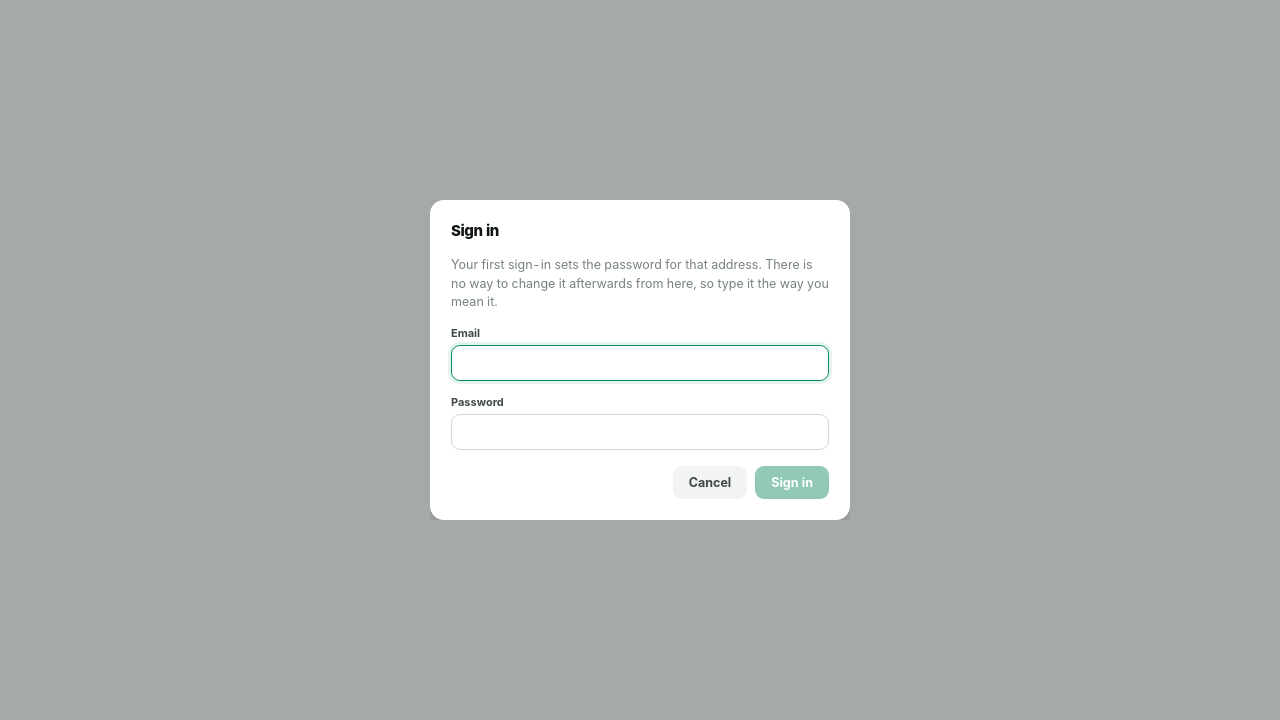
Test: the sign-in dialog › stays on the form when the browser drops the cookie, and says so
Step 1. Type "rider@example.com" into the field labelled "Email" → {"x": 640, "y": 363}, box [451,345,829,381]
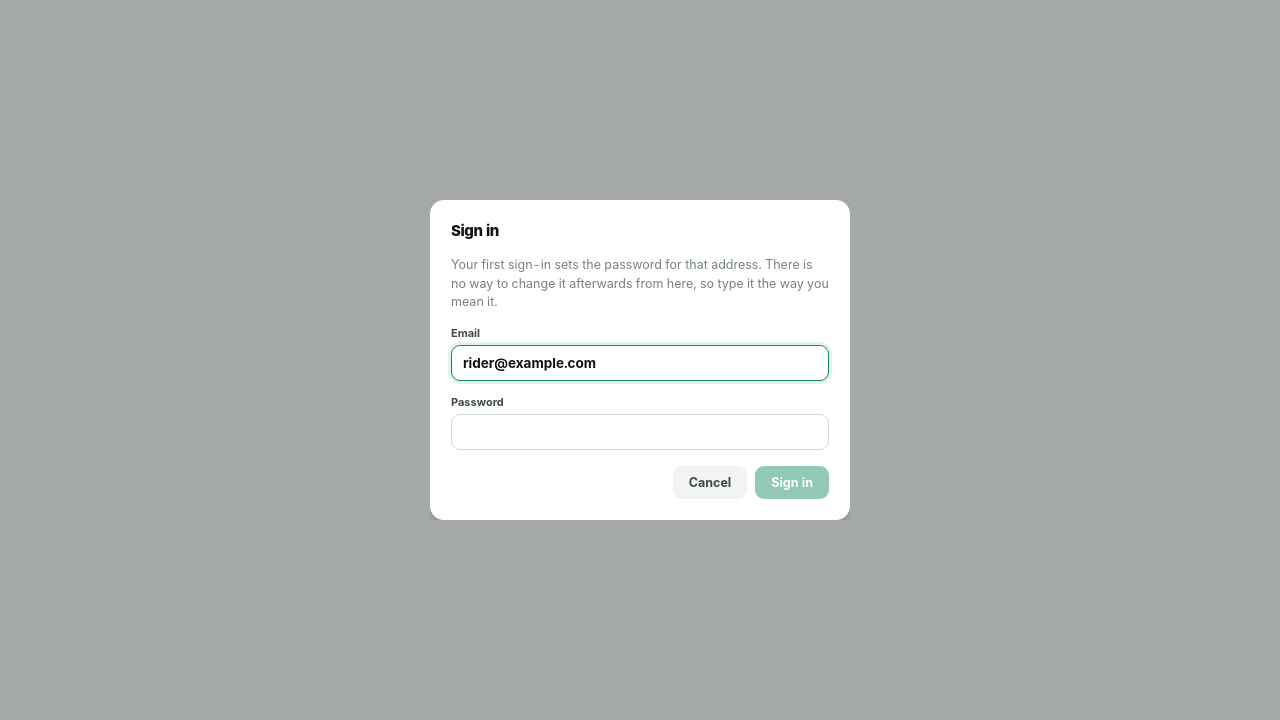
Step 2. Type "the right one" into the password field labelled "Password" → {"x": 640, "y": 432}, box [451,414,829,450]
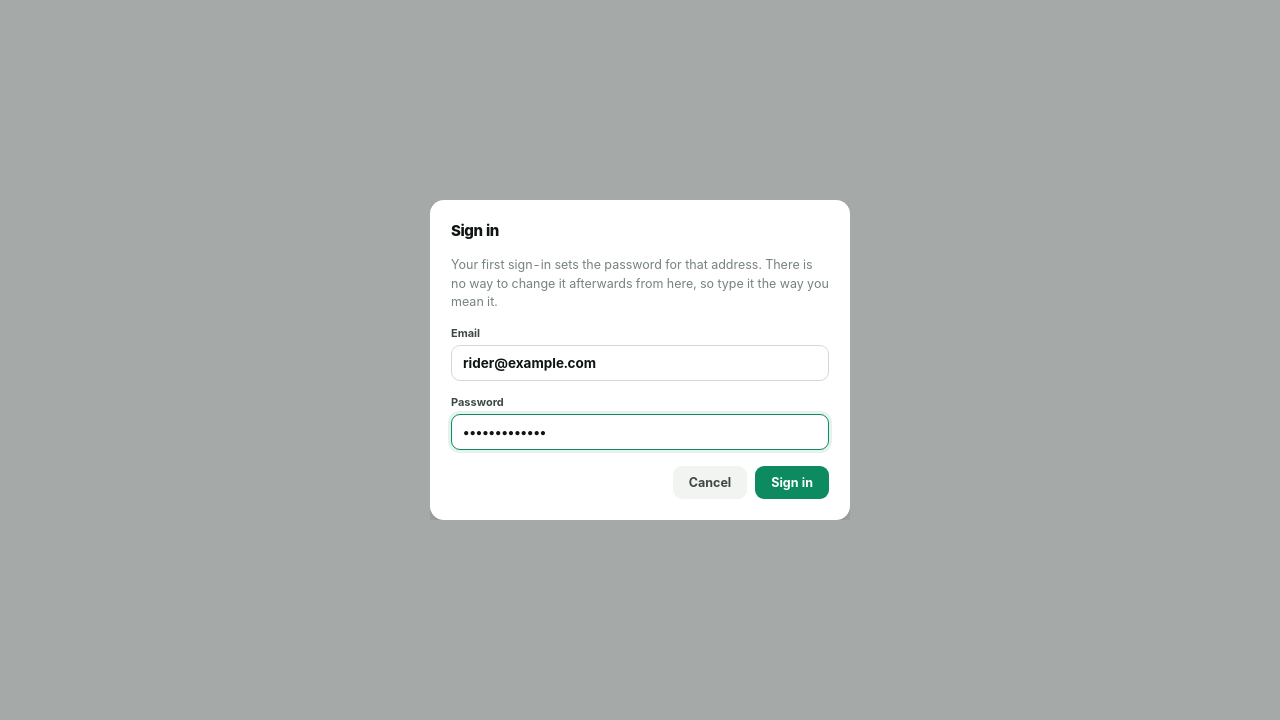
Step 3. Click the button "Sign in" → {"x": 792, "y": 483}, box [755,466,829,499]
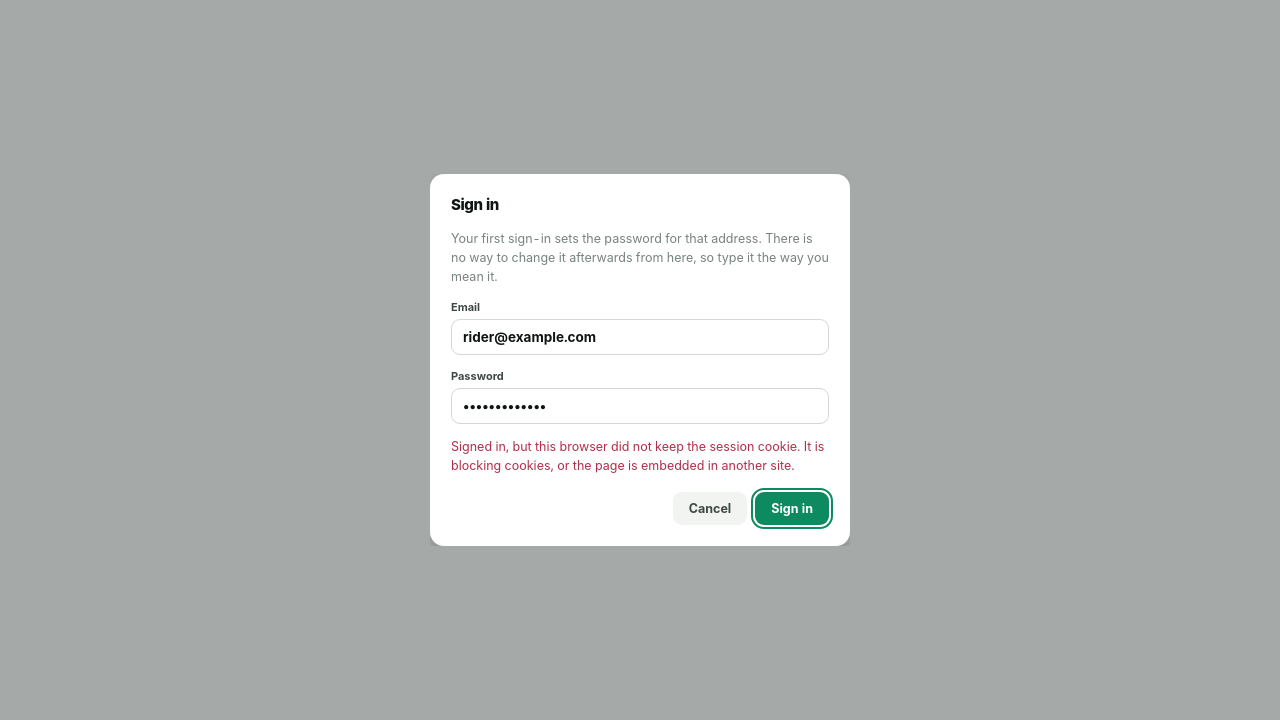
expect the text "did not keep the session cookie" is shown: met, box [451,439,824,473]
